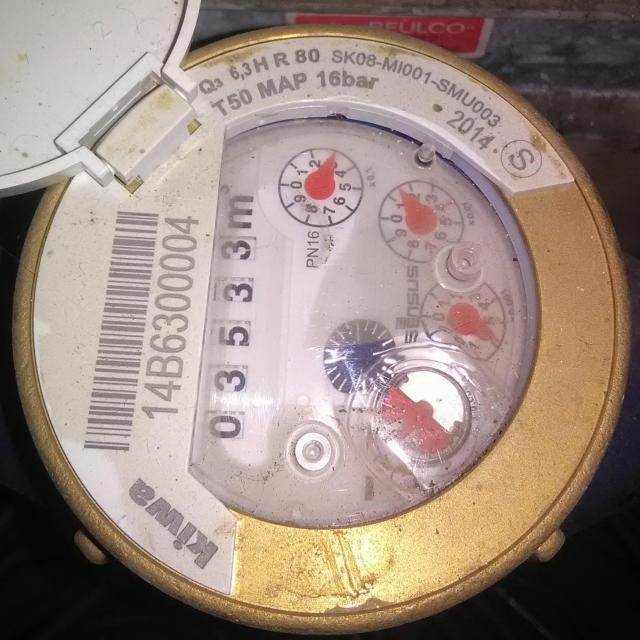gaz_meter: (28, 28, 621, 618)
indication: (196, 234, 262, 446)
